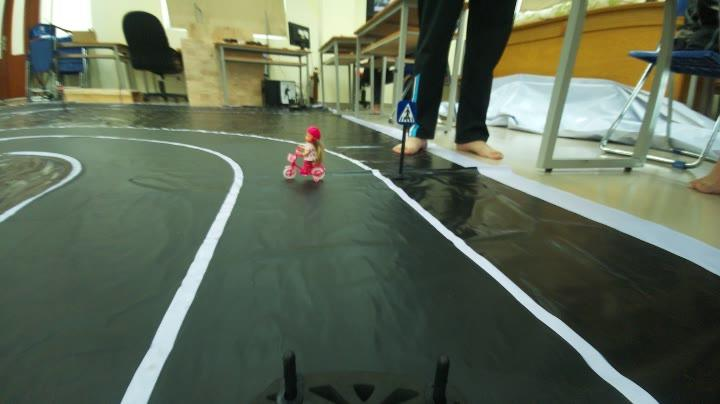crosswalk: (393, 102, 420, 128)
pedestrian: (282, 128, 335, 192)
